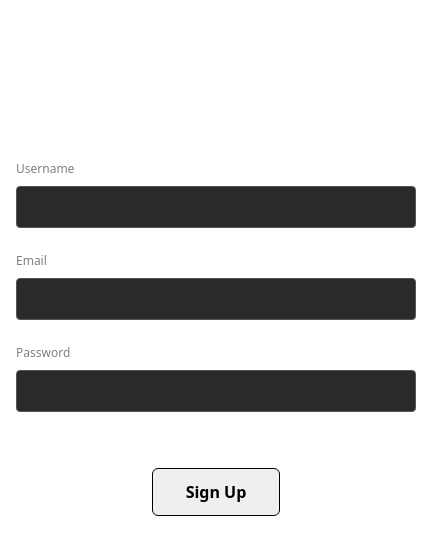
it: SignupPage › shows validation errors from the API
Type "user" into the field labelled "Username" at (216, 207), box [16,186,416,228]
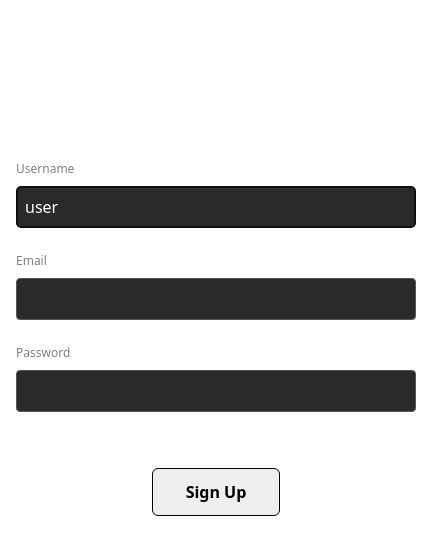
Type "user@test.com" into the field labelled "Email" at (216, 299), box [16,278,416,320]
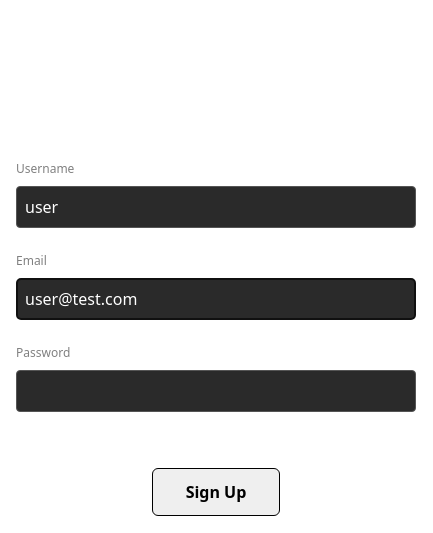
Type "short" into the password field labelled "Password" at (216, 391), box [16,370,416,412]
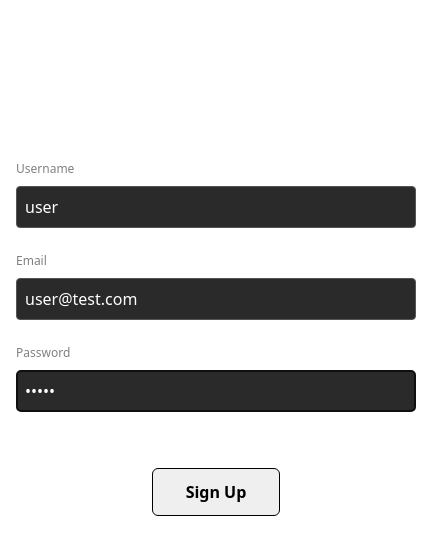
Click the button "Sign Up" at (216, 492), box [152,468,280,516]
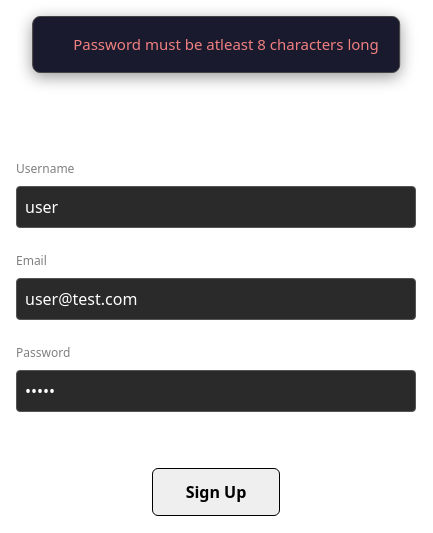
Check: the list item "Password must be atleast 8 characters long" is shown, box [73,33,379,56]
